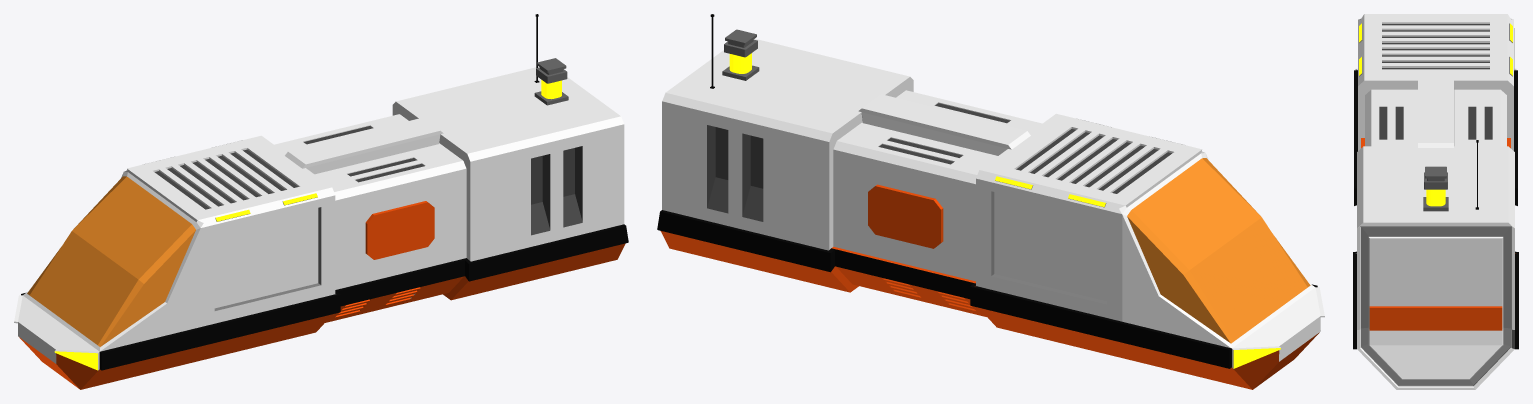
The model's file is car.fbx.
3 views of the same model, side by side, from view 1: azimuth 30°, elevation 25°; view 2: azimuth 150°, elevation 25°; view 3: azimuth 270°, elevation 25° (orthographic). The views are drawn at different scales.
Visible parts, largest first — view 1: Cube; view 2: Cube; view 3: Cube.
Part boxes in pixels (x1=…): Cube: x1=14, y1=14, x2=628, y2=389; Cube: x1=657, y1=14, x2=1324, y2=389; Cube: x1=1353, y1=14, x2=1518, y2=389.
Size of the model in its own units: 837 by 321 by 210.
